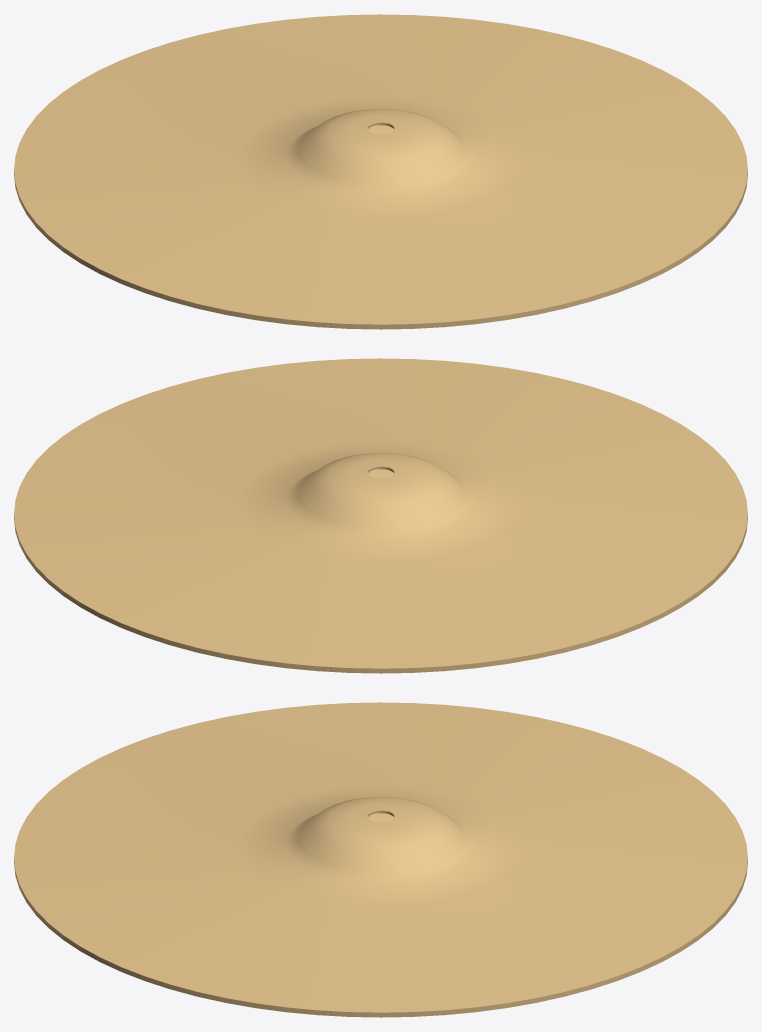
File: Hihat.fbx
The picture shows the model from 3 angles, top to bottom: view 1: azimuth 30°, elevation 25°; view 2: azimuth 150°, elevation 25°; view 3: azimuth 270°, elevation 25°; orthographic projection.
Parts seen in each view (by area): view 1: HiHat; view 2: HiHat; view 3: HiHat.
Part boxes in pixels (x1=…): HiHat: x1=14, y1=14, x2=747, y2=329; HiHat: x1=14, y1=358, x2=747, y2=673; HiHat: x1=14, y1=702, x2=747, y2=1017.
Size of the model in its own units: 35.56 by 4.66 by 35.56.
